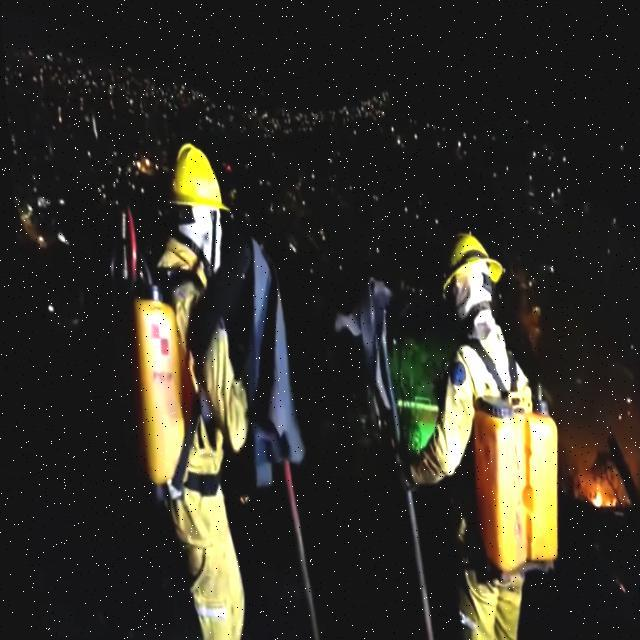Fire: (585, 462, 614, 485)
